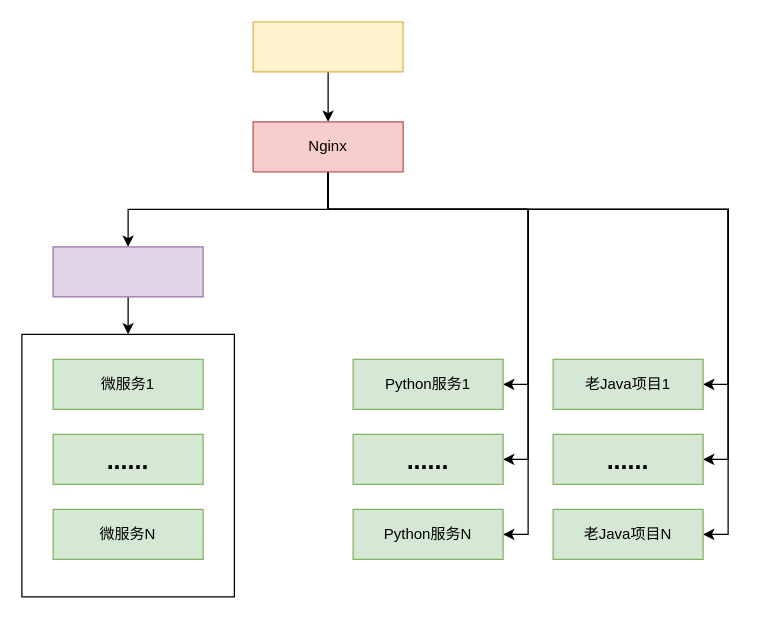
Some shapes in this 760 by 619 pixel diagram are drawn without their labels. The centre of each missing label's shape, as x and y in pixels:
"Java网关" goes at (x=127, y=271).
"请求" goes at (x=327, y=46).
